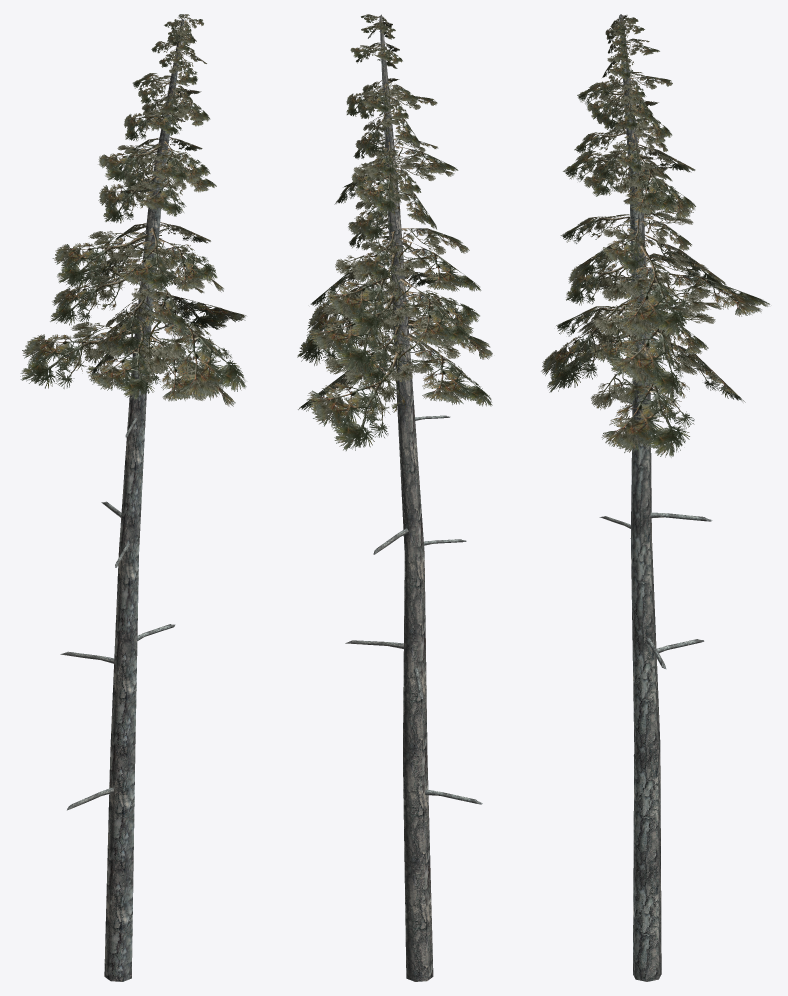
The model's file is pine_c.dae.
3 views of the same model, side by side, from view 1: azimuth 30°, elevation 25°; view 2: azimuth 150°, elevation 25°; view 3: azimuth 270°, elevation 25° (orthographic). The views are drawn at different scales.
Visible parts, largest first — view 1: pine_c; view 2: pine_c; view 3: pine_c.
Boxes of the visible parts, bbox=[...] form: pine_c: bbox=[20, 14, 246, 981]; pine_c: bbox=[297, 14, 492, 981]; pine_c: bbox=[541, 14, 769, 981].
Size of the model in its own units: 339 by 316 by 1416.
